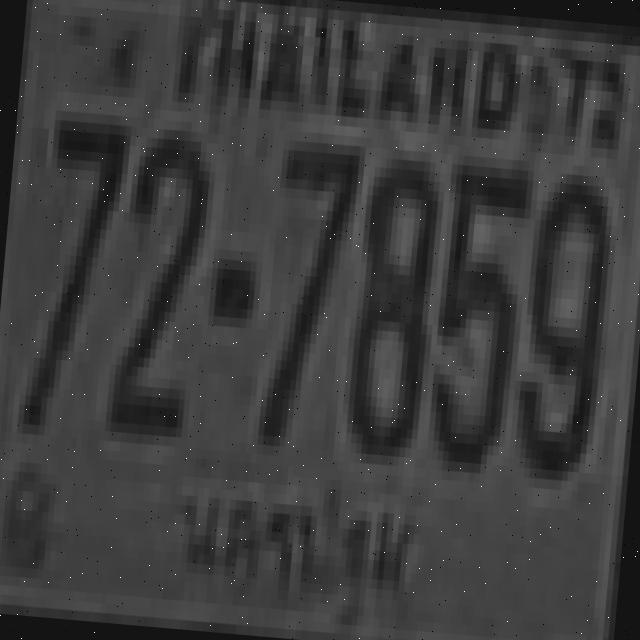2: (104, 121, 208, 432)
5: (426, 154, 529, 465)
7: (18, 109, 126, 430), (255, 130, 358, 440)
8: (339, 152, 436, 452)
9: (510, 166, 612, 468)
NakhonPathom: (165, 460, 424, 626)
